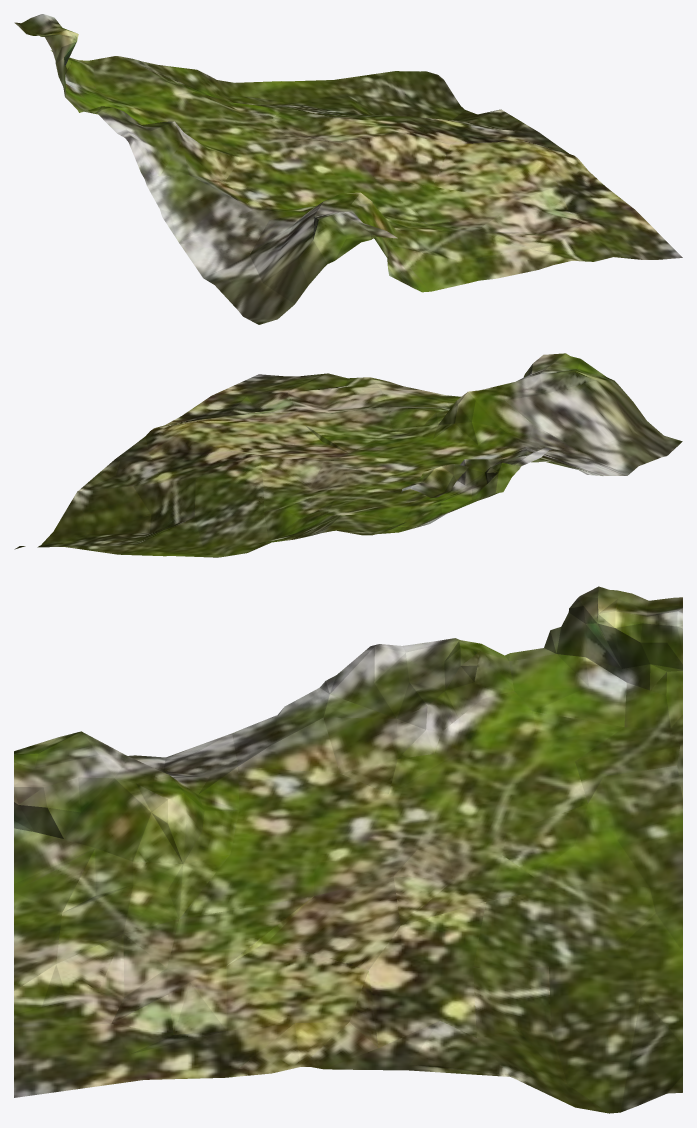
3 renders of one model, top to bottom at view 1: azimuth 30°, elevation 25°; view 2: azimuth 150°, elevation 25°; view 3: azimuth 270°, elevation 25°, orthographic. The views are drawn at different scales.
Bounding box in the file's own units: 1.67 × 0.675 × 1.67.
Materials: 3 (3 with a texture image).
